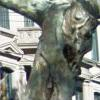Statue: (18, 0, 88, 98)
